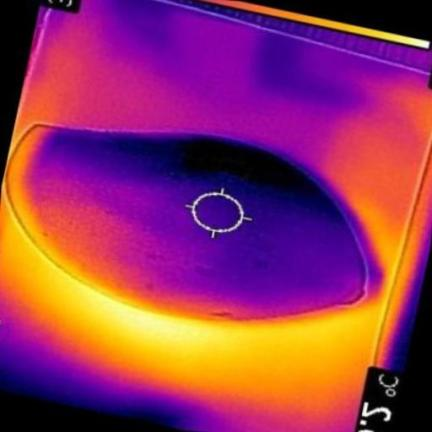mango: (9, 126, 368, 319)
